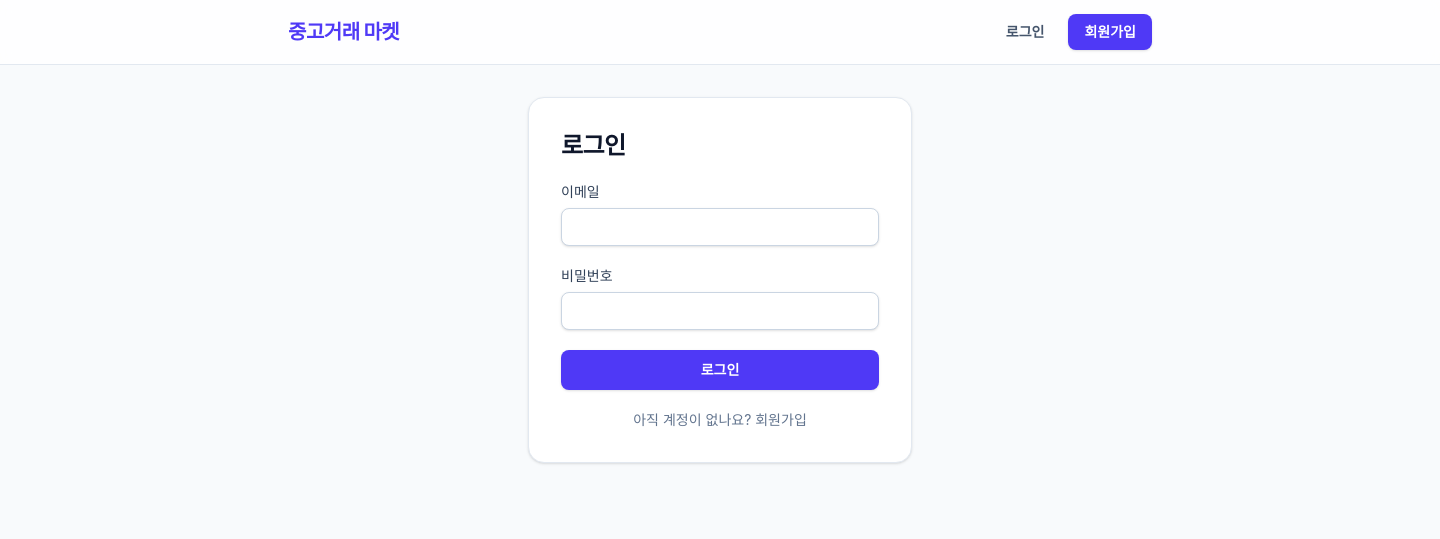
Test case: 로그인 실패 시 alert를 보여준다
Type "a@b.com" into the field labelled "이메일" at (720, 227), box [561,208,879,246]
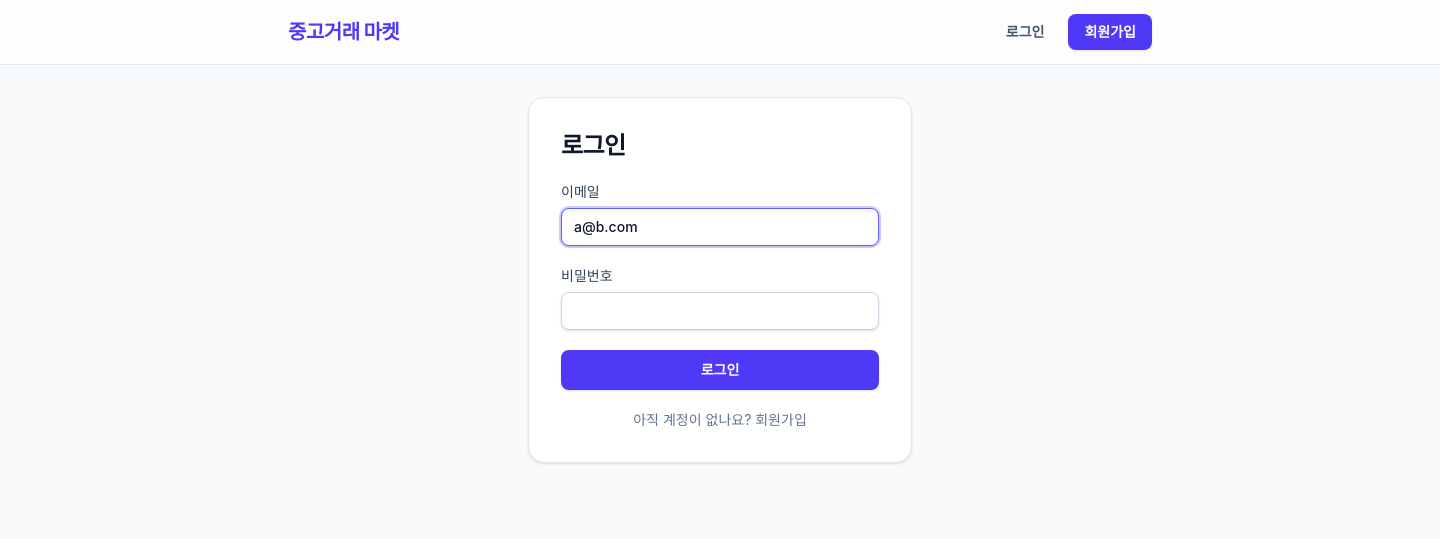
Type "bad" into the password field labelled "비밀번호" at (720, 311), box [561,292,879,330]
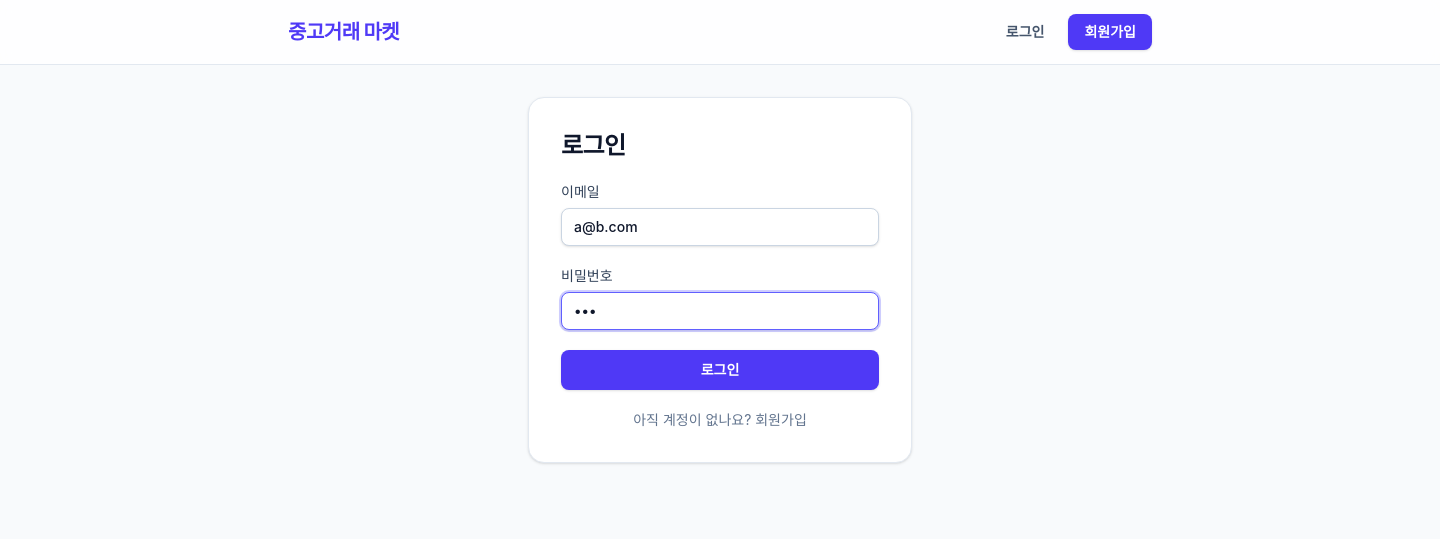
Click the button "로그인" at (720, 370), box [561,350,879,390]
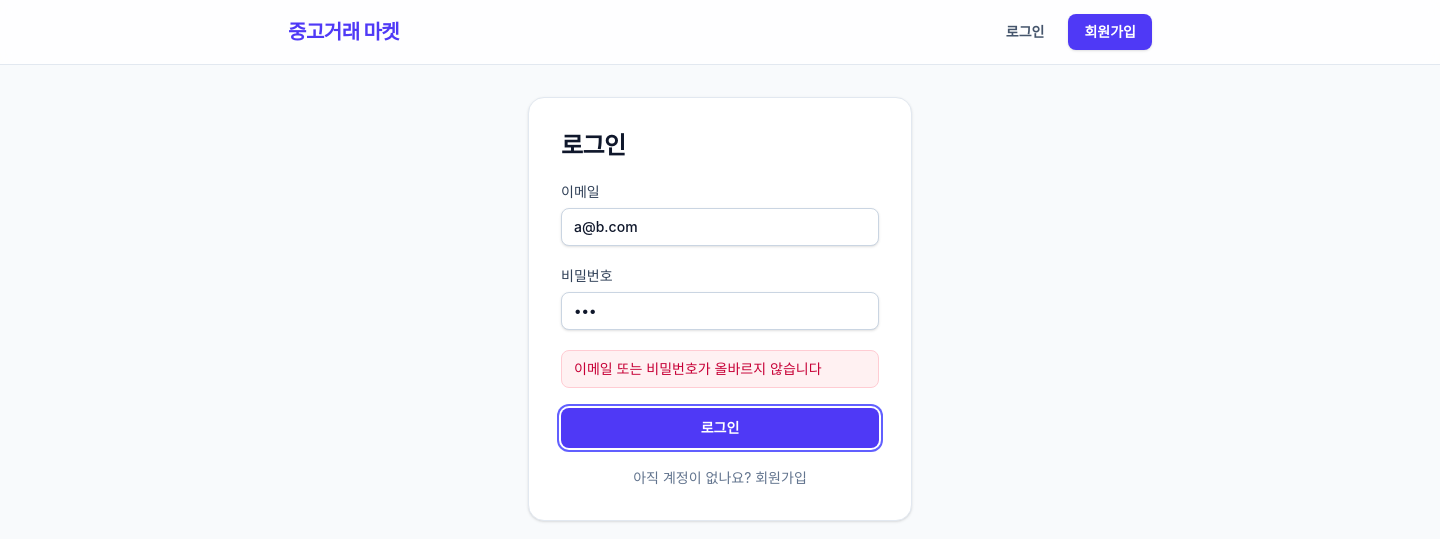
Result: the message shows "이메일 또는 비밀번호" at [574,360,822,377]
